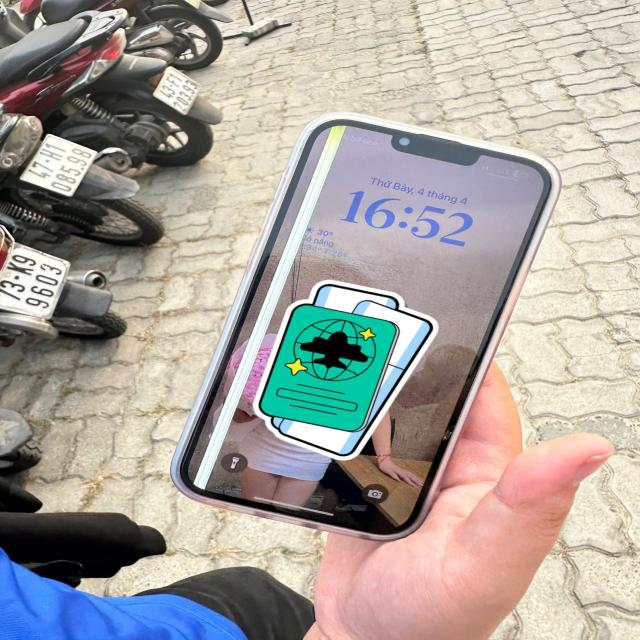gen_11: (168, 112, 564, 544)
